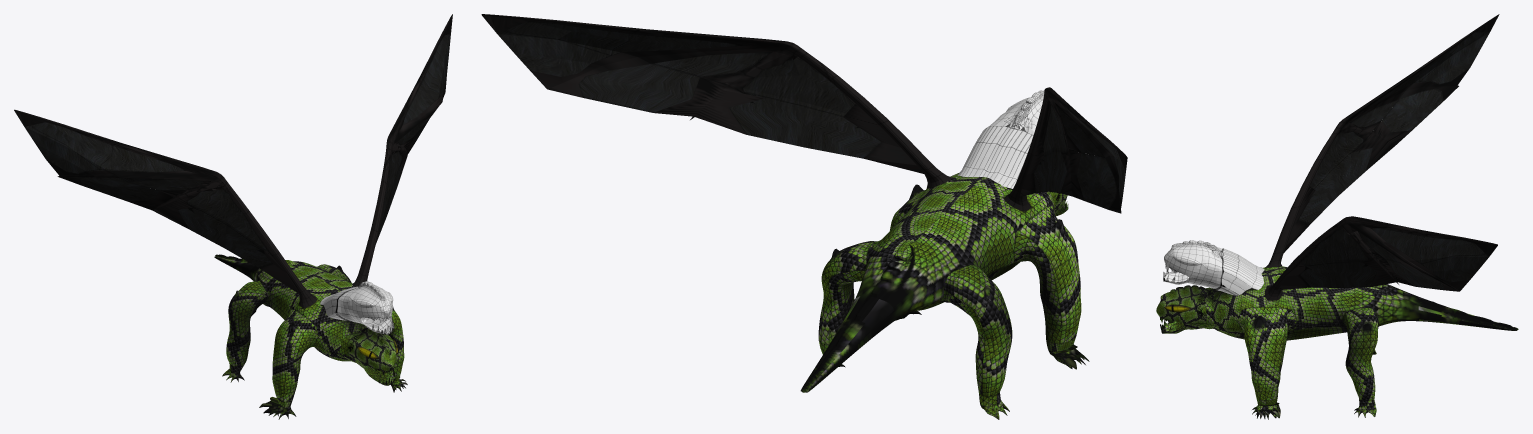
Rendered from monster_000020.obj.
3 renders of one model, left to right at view 1: azimuth 30°, elevation 25°; view 2: azimuth 150°, elevation 25°; view 3: azimuth 270°, elevation 25°, orthographic. The views are drawn at different scales.
Visible parts, largest first — view 1: body_Cube, secondHead_Cube.002; view 2: body_Cube, secondHead_Cube.002; view 3: body_Cube, secondHead_Cube.002.
Part boxes in pixels (box(x1,y1,x2,y2)): body_Cube: box(14, 14, 452, 419); secondHead_Cube.002: box(320, 281, 394, 334); body_Cube: box(481, 14, 1127, 419); secondHead_Cube.002: box(957, 90, 1044, 188); body_Cube: box(1156, 14, 1518, 419); secondHead_Cube.002: box(1163, 240, 1264, 295).
Size of the model in its own units: 7.92 by 4.49 by 5.51.
